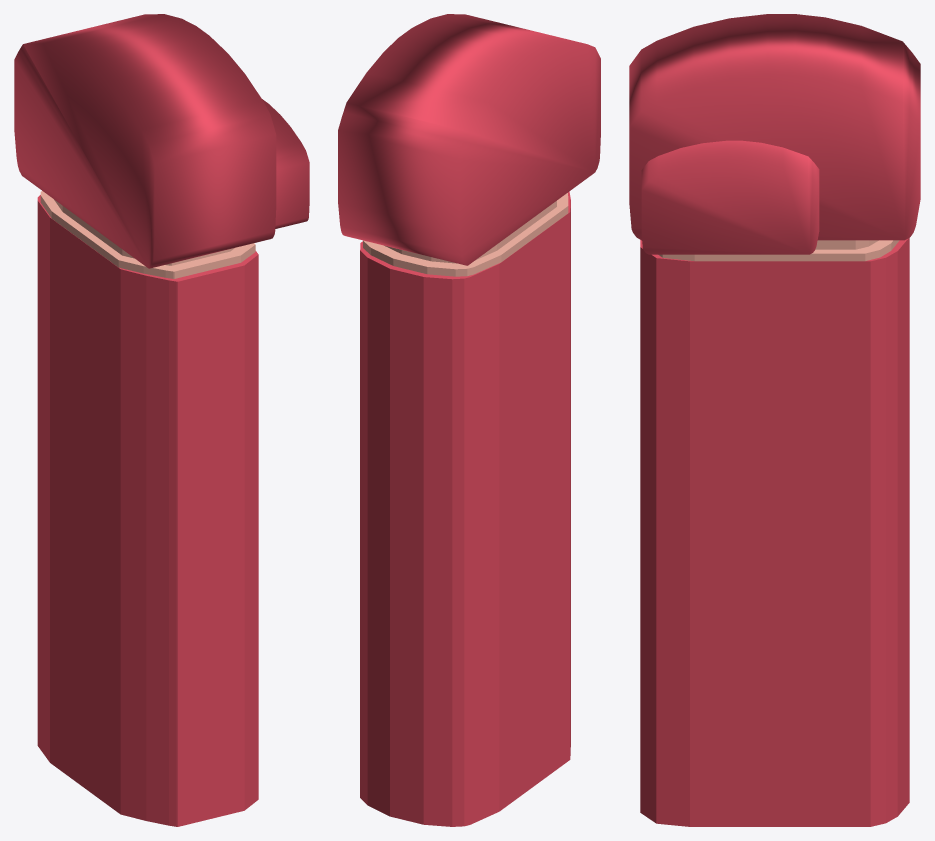
3 views of the same model, side by side, from view 1: azimuth 30°, elevation 25°; view 2: azimuth 150°, elevation 25°; view 3: azimuth 270°, elevation 25° (orthographic). The views are drawn at different scales.
Parts seen in each view (by area): view 1: Cube.002; view 2: Cube.002; view 3: Cube.002.
Boxes of the visible parts, x1,y1,x2,y2 form: Cube.002: (14, 14, 309, 826); Cube.002: (338, 14, 600, 826); Cube.002: (629, 14, 920, 826).
Bounding box in the file's own units: 107 × 455 × 160.
